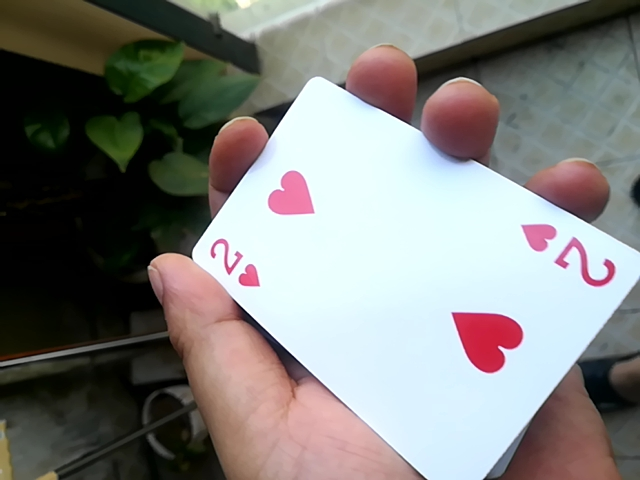hx 2: (169, 60, 638, 476)
